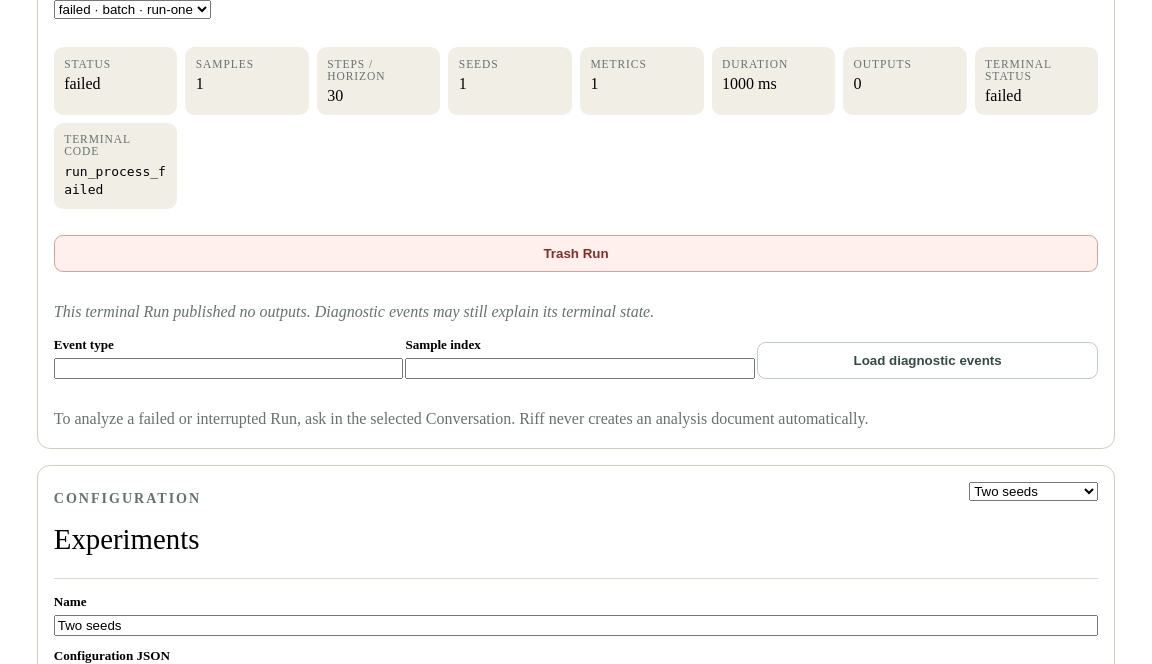
Test: dynamic Project workspace › shows failed terminal evidence and exposes diagnostics even without outputs
(page scrolled)
Check: the text "run_process_failed" is shown, box [64, 164, 166, 197]
Check: the text "published no outputs" is shown, box [54, 303, 654, 320]
Click the button "Load diagnostic events" at (928, 361), box [757, 342, 1098, 379]
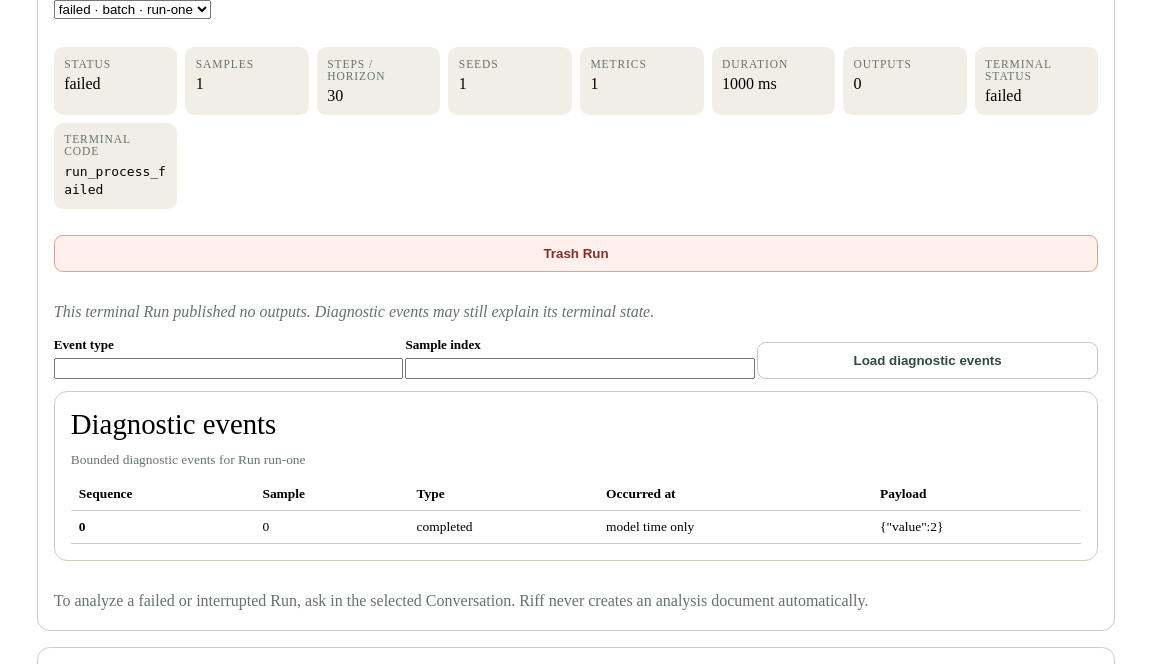
Check: the table "Bounded diagnostic events" is shown, box [71, 452, 1081, 544]
